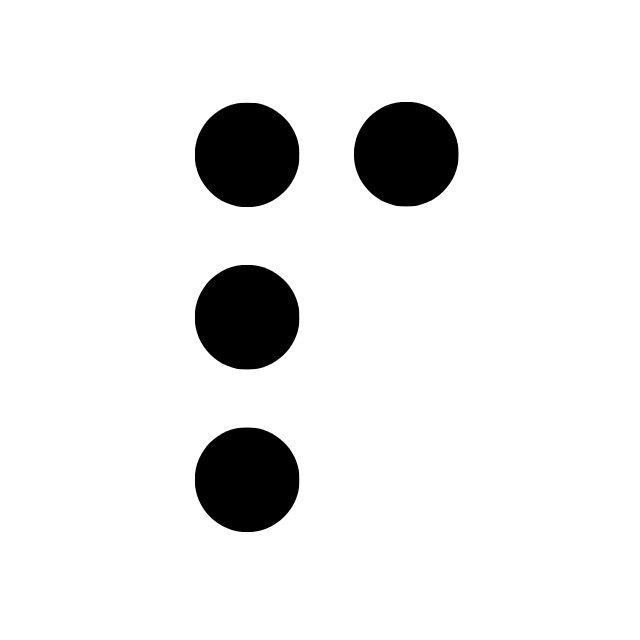para: (195, 99, 458, 532)
